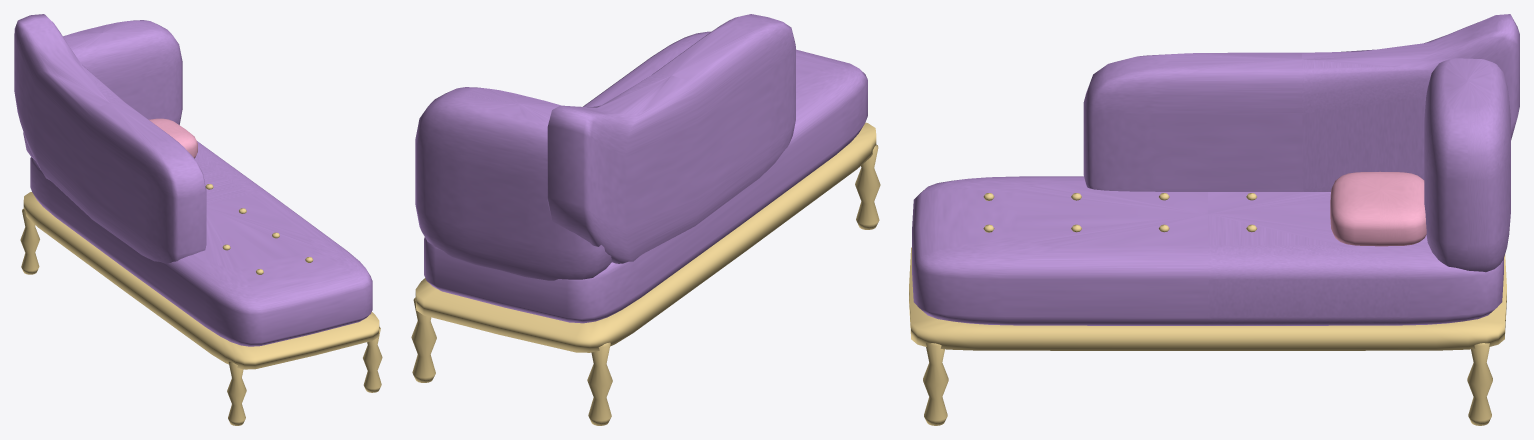
File: citadel_party_chaise.glb
3 views of the same model, side by side, from view 1: azimuth 30°, elevation 25°; view 2: azimuth 150°, elevation 25°; view 3: azimuth 270°, elevation 25° (orthographic). The views are drawn at different scales.
Visible parts, largest first — view 1: Velvet_Lilac, Gilt, Satin_Blush2; view 2: Velvet_Lilac, Gilt; view 3: Velvet_Lilac, Gilt, Satin_Blush2.
Part boxes in pixels (left/top/right/bottom): Velvet_Lilac: left=14, top=14, right=372, bottom=346; Gilt: left=20, top=184, right=382, bottom=425; Satin_Blush2: left=149, top=118, right=197, bottom=158; Velvet_Lilac: left=415, top=14, right=867, bottom=323; Gilt: left=411, top=122, right=880, bottom=425; Velvet_Lilac: left=912, top=14, right=1519, bottom=325; Gilt: left=909, top=193, right=1506, bottom=425; Satin_Blush2: left=1330, top=171, right=1426, bottom=246.
Bounding box in the file's own units: 0.7486 × 1.14 × 1.95.
3 materials, 2 textured.
